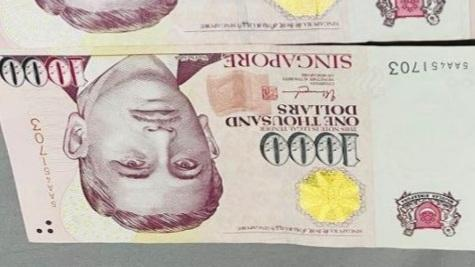1000SingaporeDollar: (0, 48, 475, 242)
